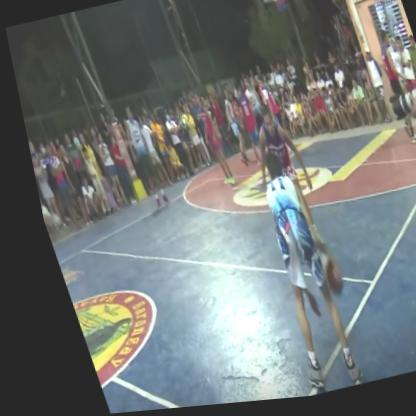basketball: (303, 251, 340, 308)
rim: (261, 0, 294, 27)
